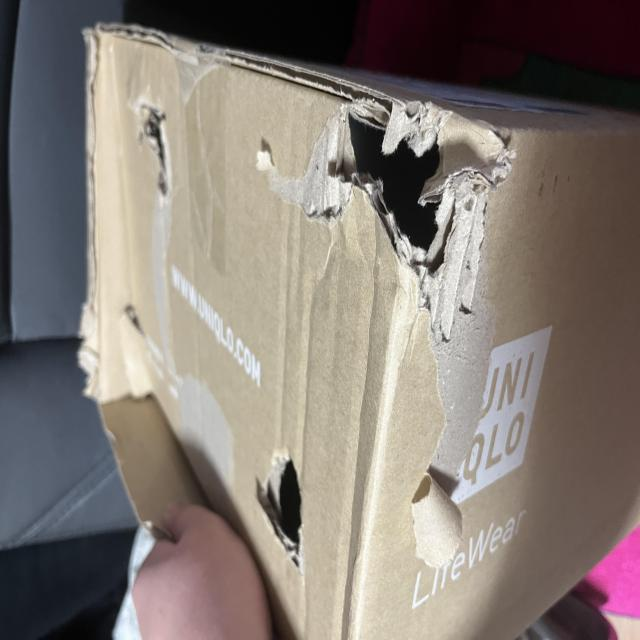damaged: (147, 341, 351, 556), (330, 63, 388, 191), (461, 430, 507, 542)
